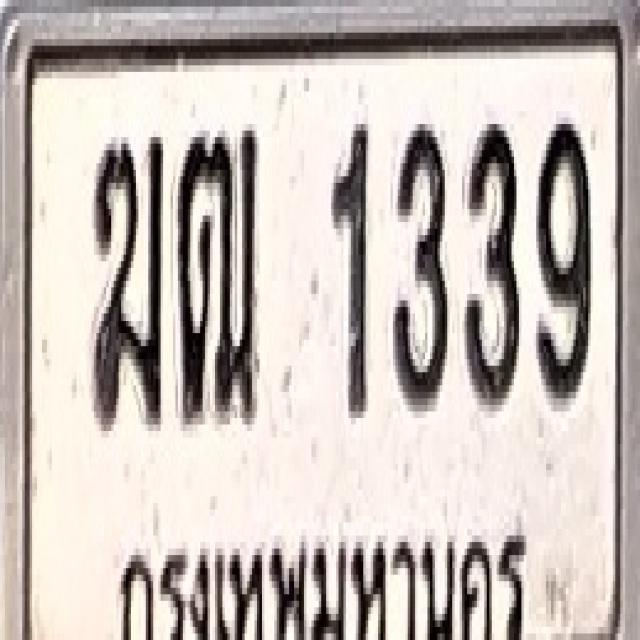1: (331, 118, 368, 418)
3: (390, 118, 448, 412), (462, 114, 519, 408)
9: (536, 117, 591, 405)
A06: (90, 131, 162, 431)
A18: (176, 124, 260, 425)
BKK: (112, 509, 530, 640)
